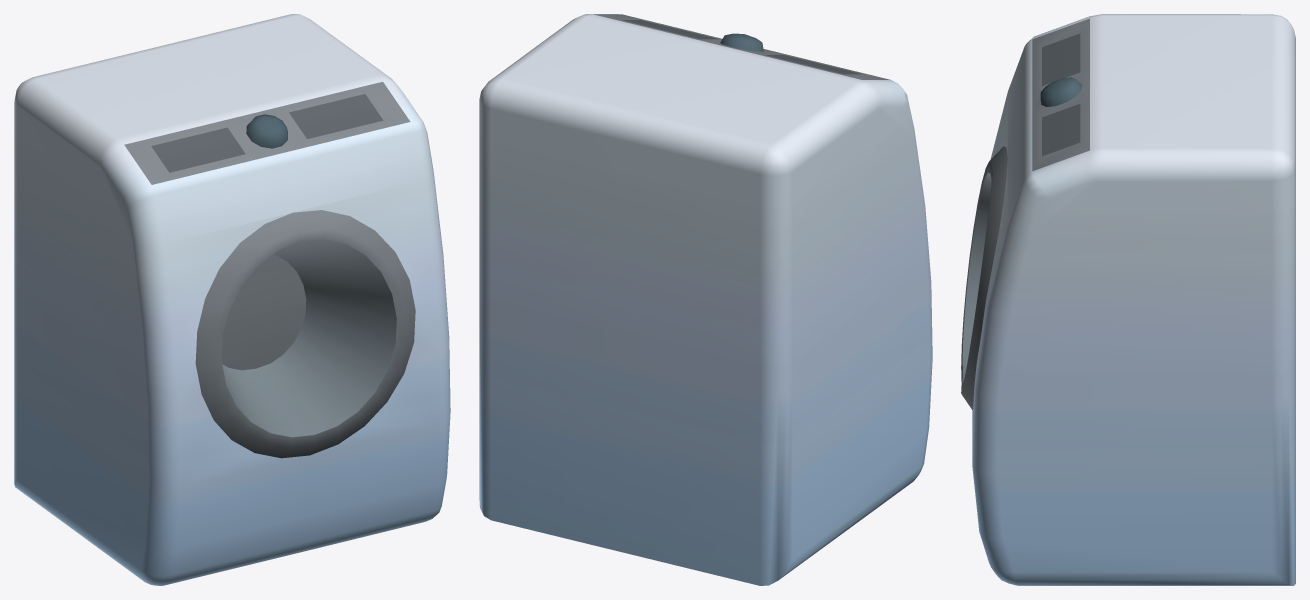
Rendered from Washing_Machine_01.glb.
3 views of the same model, side by side, from view 1: azimuth 30°, elevation 25°; view 2: azimuth 150°, elevation 25°; view 3: azimuth 270°, elevation 25° (orthographic). The views are drawn at different scales.
Parts seen in each view (by area): view 1: Washing_Machine_01; view 2: Washing_Machine_01; view 3: Washing_Machine_01.
Boxes of the visible parts, x1,y1,x2,y2 form: Washing_Machine_01: (14,14,450,585); Washing_Machine_01: (479,14,932,585); Washing_Machine_01: (961,14,1295,585).
Size of the model in its own units: 0.6 by 0.8021 by 0.5572.
Materials: 1 (1 with a texture image).
